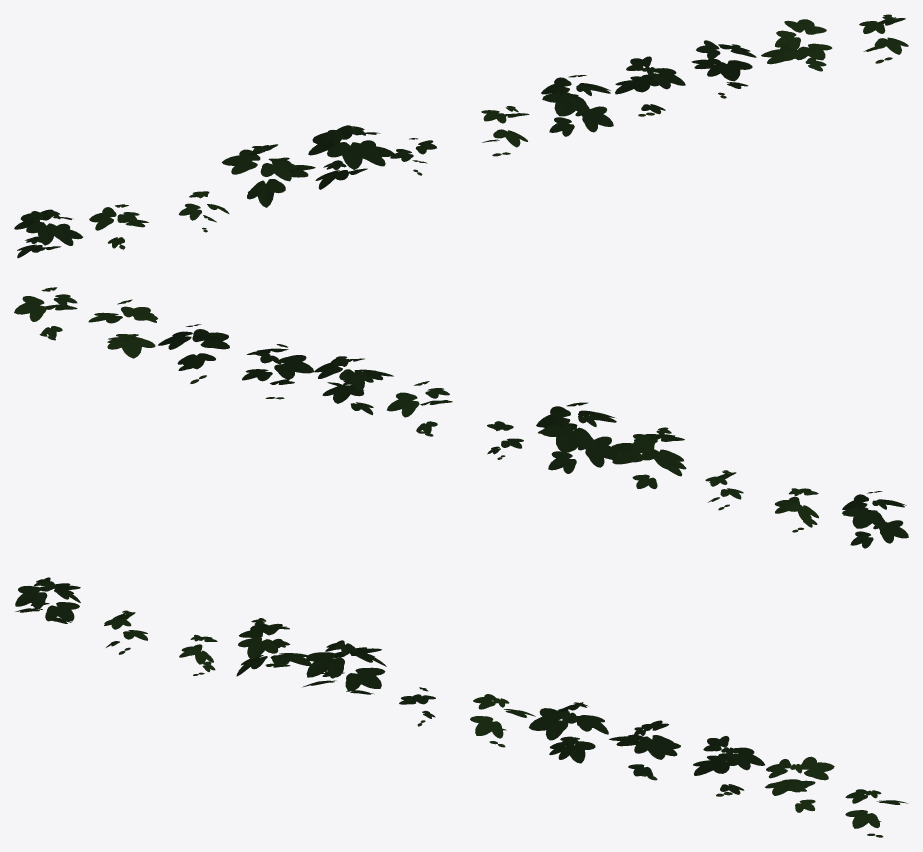
File: ROW_19_SEG5_foliage.dae
3 views of the same model, one above another, from view 1: azimuth 30°, elevation 25°; view 2: azimuth 150°, elevation 25°; view 3: azimuth 330°, elevation 25° (orthographic).
Visible parts, largest first — view 1: ROW_19_SEG5_foliage; view 2: ROW_19_SEG5_foliage; view 3: ROW_19_SEG5_foliage.
Part boxes in pixels (<box>): ROW_19_SEG5_foliage: <box>14,14,908,258</box>; ROW_19_SEG5_foliage: <box>14,287,908,548</box>; ROW_19_SEG5_foliage: <box>15,577,908,837</box>.
Bounding box in the file's own units: 3.57 × 0.3272 × 0.2607.
